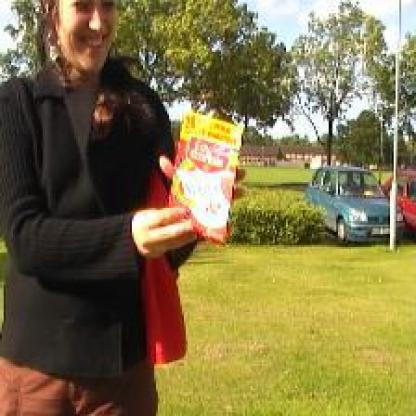other: (139, 173, 195, 358), (166, 109, 241, 240)
